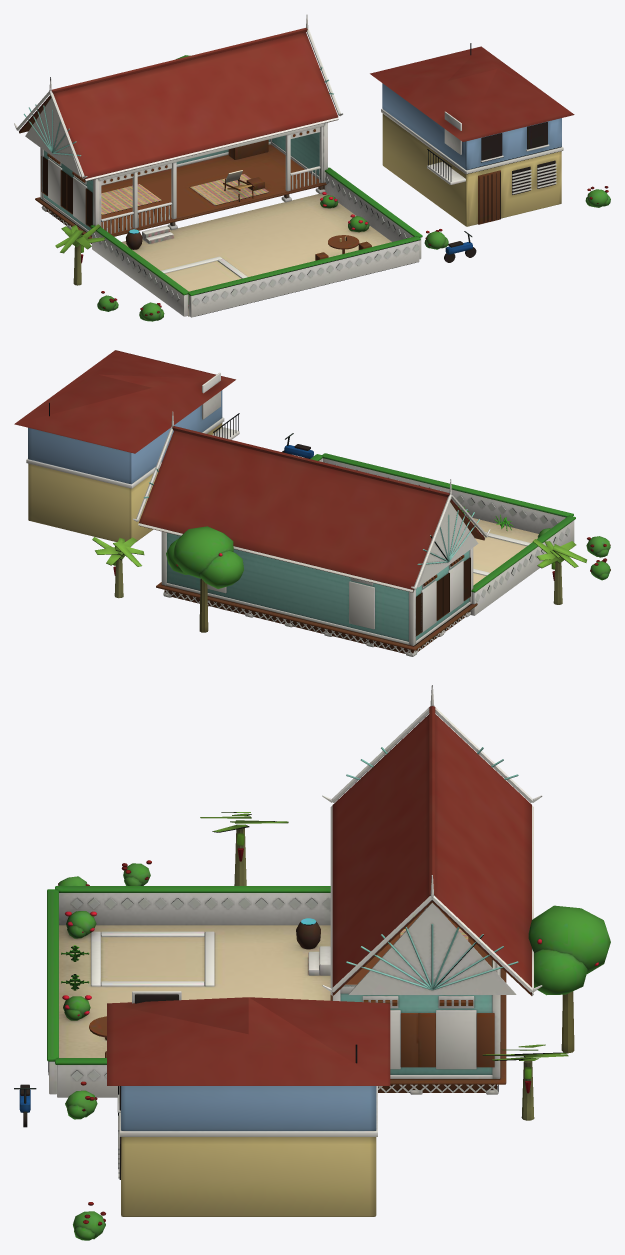
Rendered from valora-house-my.glb.
The picture shows the model from 3 angles, top to bottom: view 1: azimuth 30°, elevation 25°; view 2: azimuth 150°, elevation 25°; view 3: azimuth 270°, elevation 25°; orthographic projection. The views are drawn at different scales.
Parts seen in each view (by area): view 1: valora-house-my; view 2: valora-house-my; view 3: valora-house-my.
Part boxes in pixels (<box>): valora-house-my: <box>14,14,610,321</box>; valora-house-my: <box>14,350,610,656</box>; valora-house-my: <box>14,685,610,1240</box>.
Size of the model in its own units: 22.05 by 6.95 by 14.95.
Materials: 27 (27 with a texture image).
